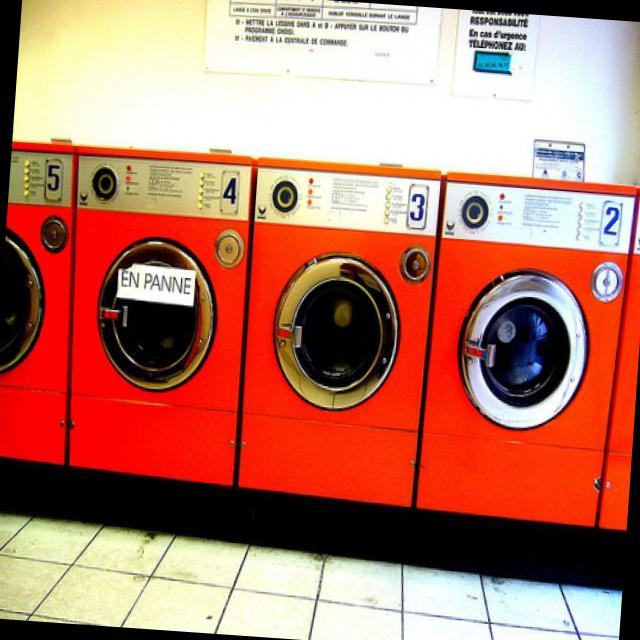floor -X: (0, 509, 619, 640)
wall clock: (12, 0, 640, 180)
washing machines: (0, 138, 640, 589)
